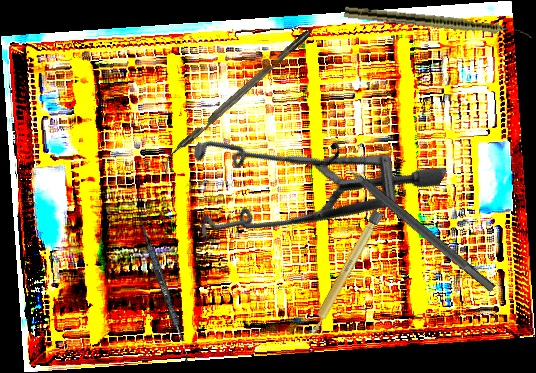Chopper: (155, 29, 318, 175)
Fixation Ring: (314, 139, 504, 303)
Handpiece: (343, 6, 535, 40)
Scalpel Handle: (306, 209, 384, 336)
Spatula Surgical: (133, 213, 195, 364)
Speculum: (157, 53, 449, 329)
